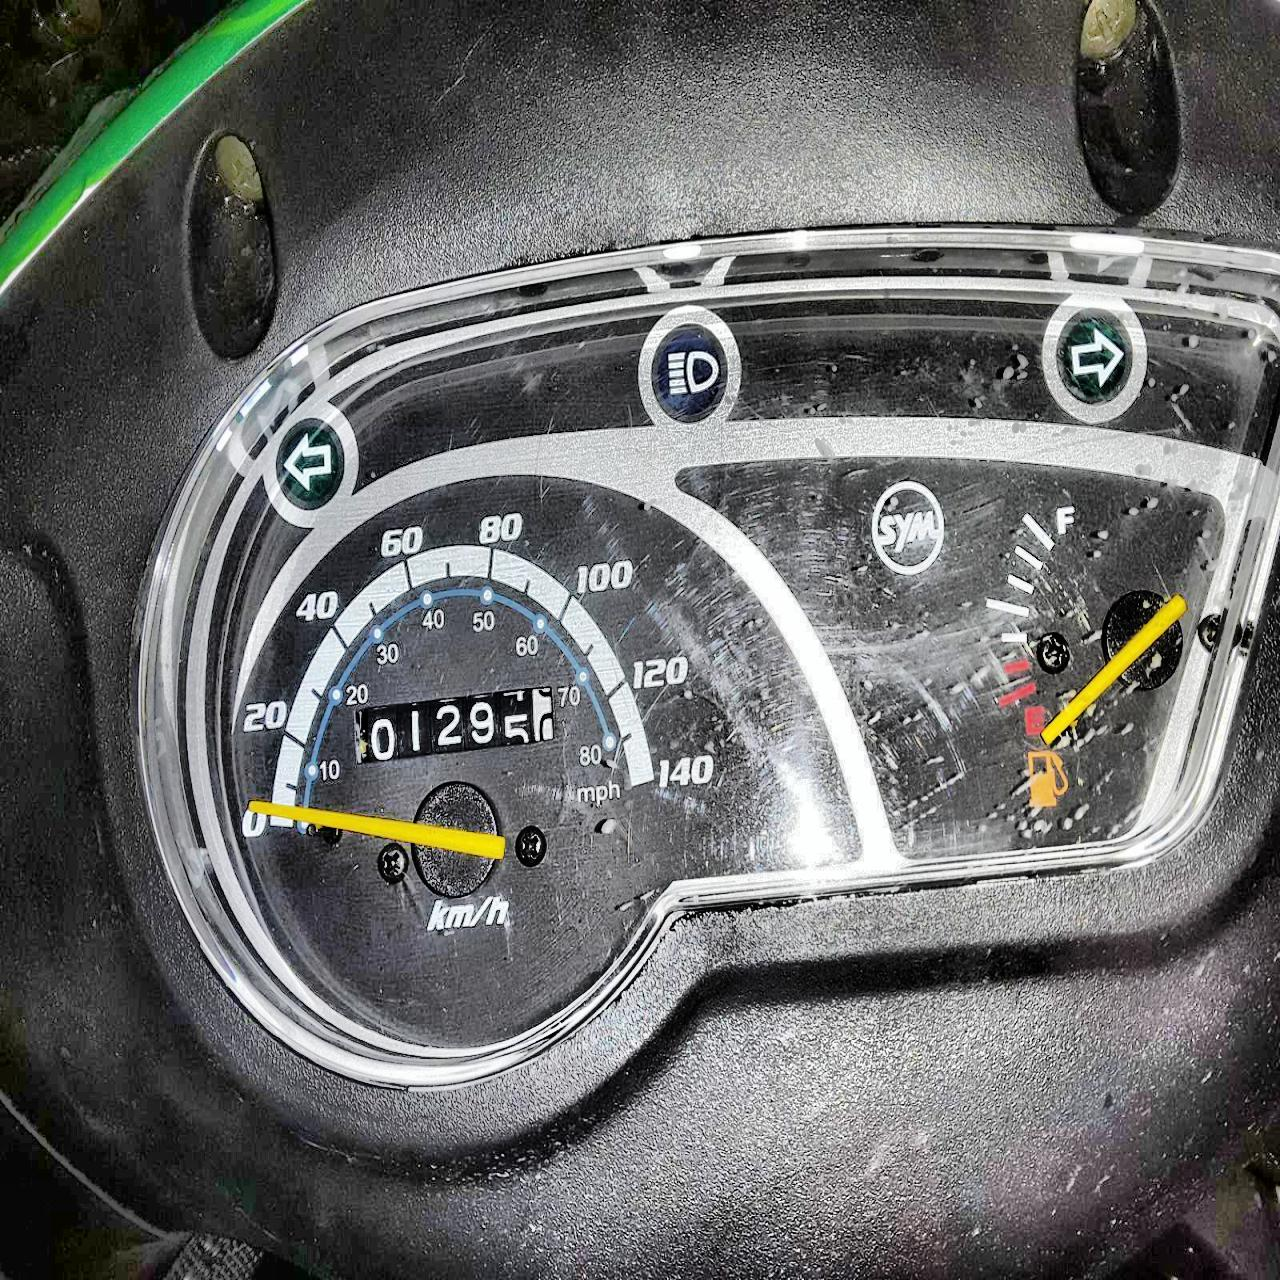0: (369, 716, 395, 760), (538, 712, 557, 744), (356, 682, 367, 703)
1: (410, 708, 420, 750)
2: (435, 703, 461, 744)
5: (503, 712, 529, 750)
9: (469, 700, 493, 743)
odometer: (350, 685, 554, 765)
